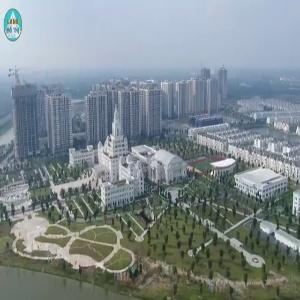drone: (124, 193, 175, 244)
